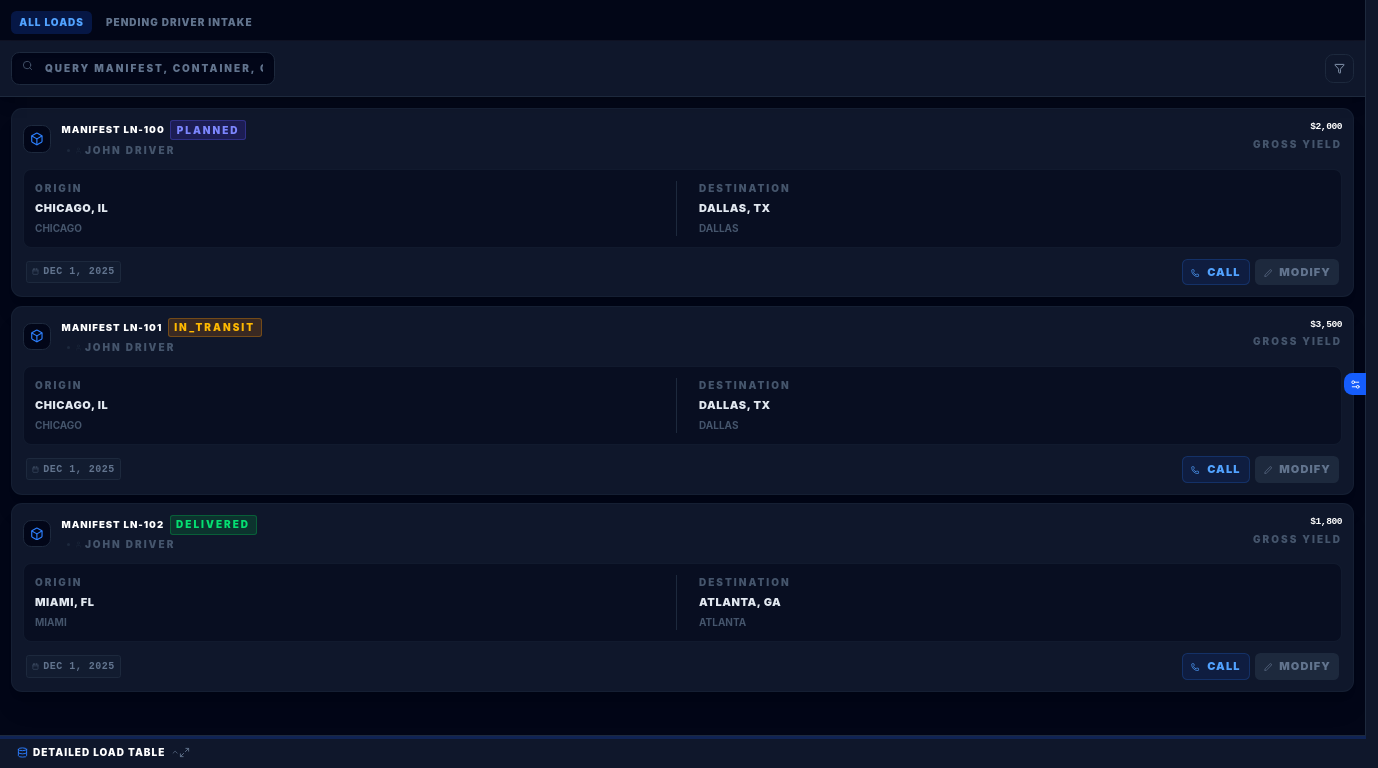
it: LoadBoardEnhanced component › sidebar toggle › opens customize sidebar when toggle is clicked
Click the button without text below "$3,500" at (1355,384), box [1344,373,1366,395]
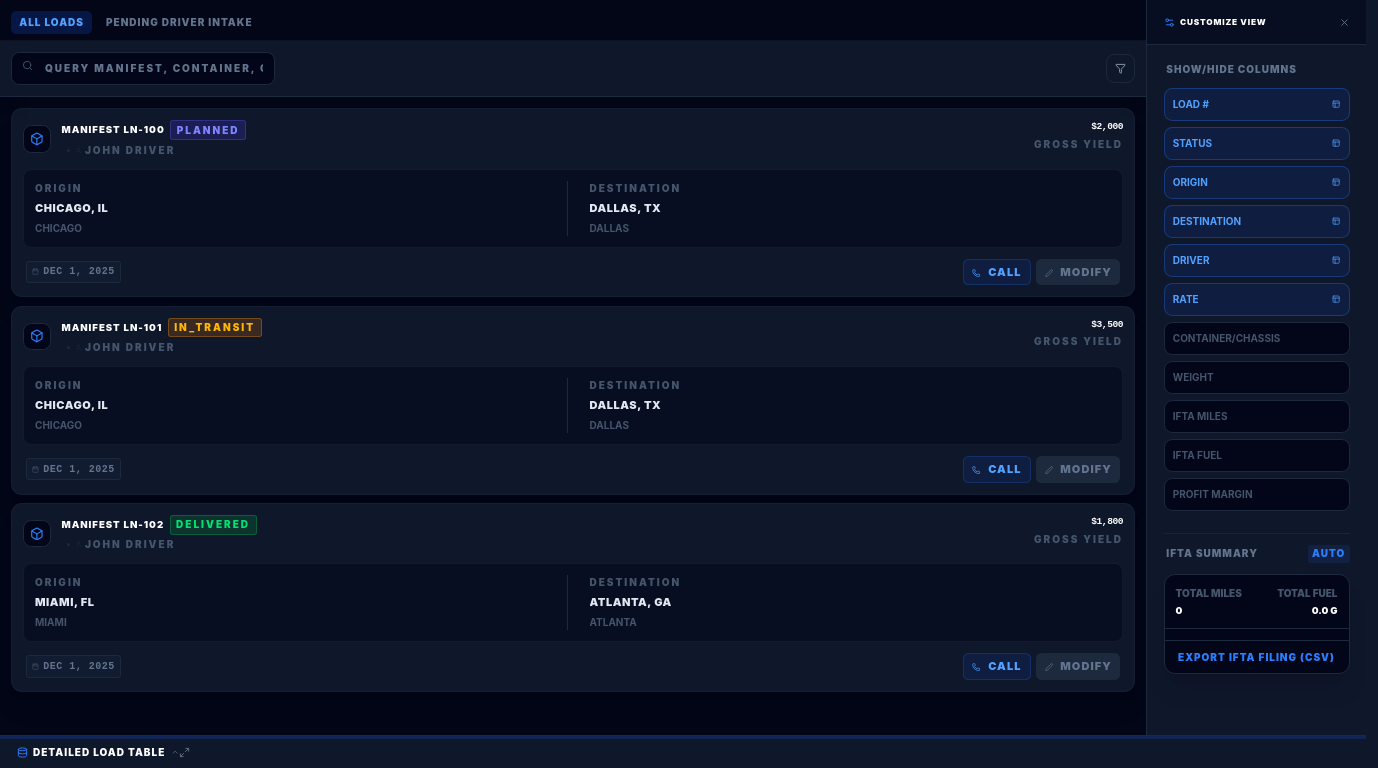
Check: the heading "Customize View" is shown, box [1164,16,1266,28]
Check: the heading "Show/Hide Columns" is shown, box [1166,62,1297,74]
